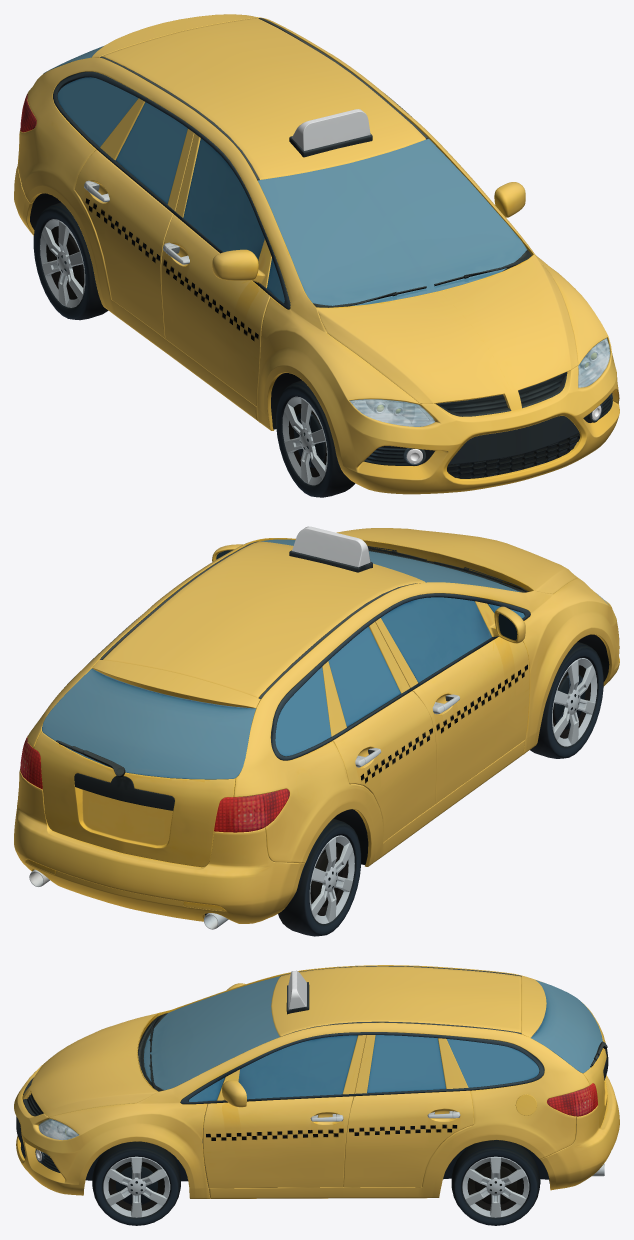
The picture shows the model from 3 angles, top to bottom: view 1: azimuth 30°, elevation 25°; view 2: azimuth 150°, elevation 25°; view 3: azimuth 270°, elevation 25°; orthographic projection. The views are drawn at different scales.
Parts seen in each view (by area): view 1: taxi.2, taxi_glass.3; view 2: taxi.2; view 3: taxi.2, taxi_glass.3.
Boxes of the visible parts, left/top/right/bottom form: taxi.2: left=14, top=14, right=619, bottom=497; taxi_glass.3: left=350, top=338, right=610, bottom=426; taxi.2: left=14, top=526, right=619, bottom=936; taxi.2: left=14, top=965, right=619, bottom=1225; taxi_glass.3: left=38, top=1118, right=78, bottom=1139.
Bounding box in the file's own units: 1.21 × 1 × 2.77.
2 materials, 2 textured.
